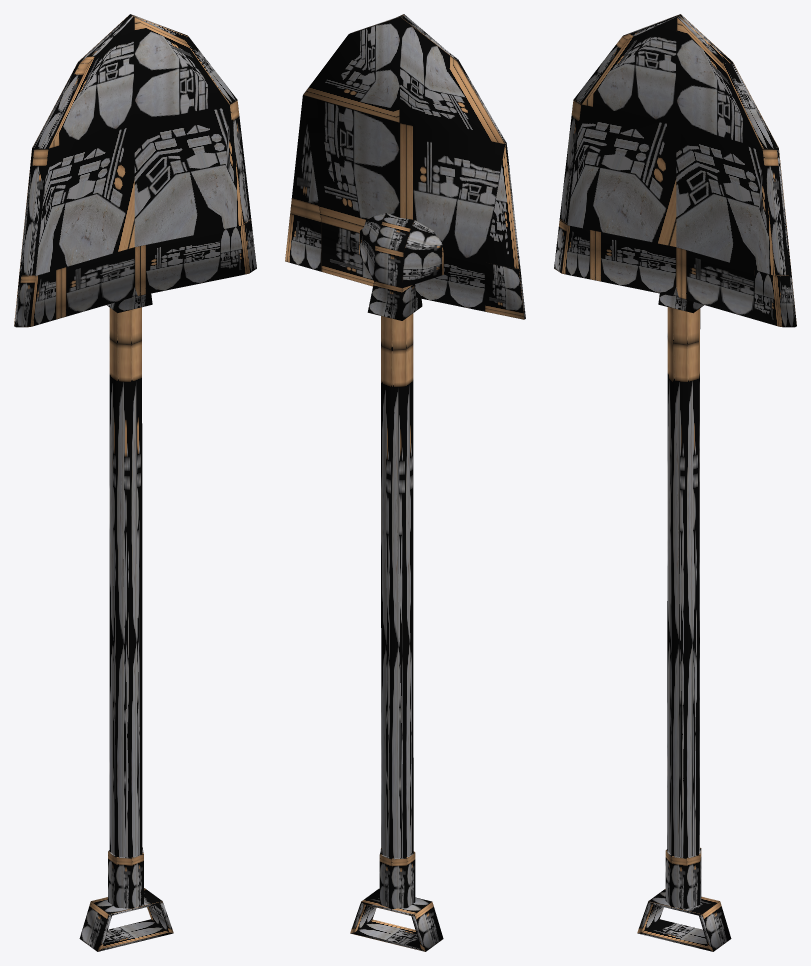
File: low-poly-shovel-textured.obj
3 views of the same model, side by side, from view 1: azimuth 30°, elevation 25°; view 2: azimuth 150°, elevation 25°; view 3: azimuth 330°, elevation 25° (orthographic).
Parts seen in each view (by area): view 1: shovel.001_shovel; view 2: shovel.001_shovel; view 3: shovel.001_shovel.
Part boxes in pixels (x1,y1,x2,y2): shovel.001_shovel: (14, 14, 256, 951); shovel.001_shovel: (285, 14, 525, 951); shovel.001_shovel: (554, 14, 796, 951).
Bounding box in the file's own units: 2.02 × 7.41 × 0.3619.
Materials: 1 (1 with a texture image).
